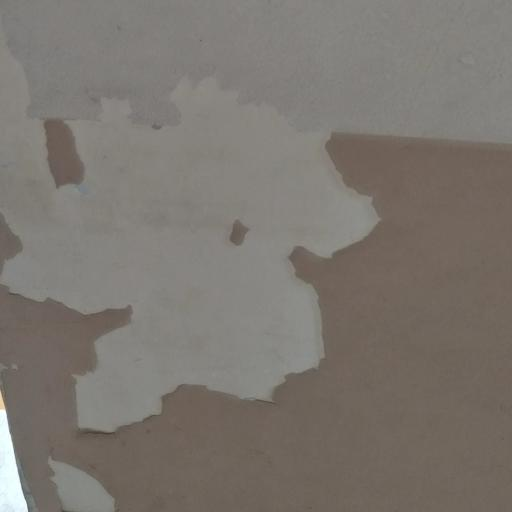peeling: (0, 26, 381, 449), (22, 457, 128, 511)
